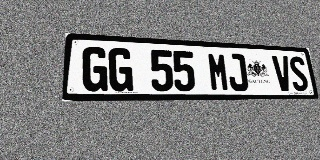5: (150, 49, 174, 91), (172, 51, 196, 91)
G: (81, 46, 108, 91), (108, 47, 133, 91)
J: (226, 53, 249, 91)
M: (207, 52, 230, 91)
S: (288, 56, 309, 91)
V: (272, 55, 293, 91)
